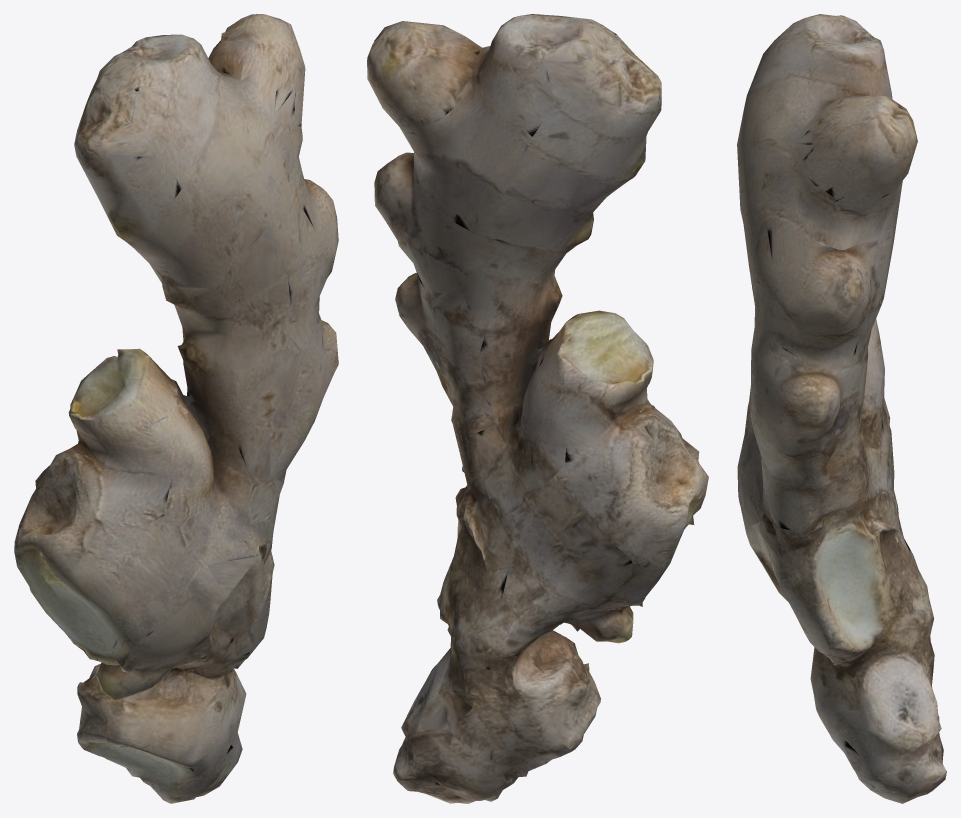
Rendered from food_ginger_01.glb.
3 views of the same model, side by side, from view 1: azimuth 30°, elevation 25°; view 2: azimuth 150°, elevation 25°; view 3: azimuth 270°, elevation 25° (orthographic). The views are drawn at different scales.
Parts seen in each view (by area): view 1: food_ginger_01; view 2: food_ginger_01; view 3: food_ginger_01.
Boxes of the visible parts, box(x1,y1,x2,y2) form: food_ginger_01: box(14, 14, 338, 803); food_ginger_01: box(367, 14, 708, 803); food_ginger_01: box(737, 14, 946, 803).
Bounding box in the file's own units: 0.2405 × 0.5746 × 0.1476.
Materials: 1 (1 with a texture image).
